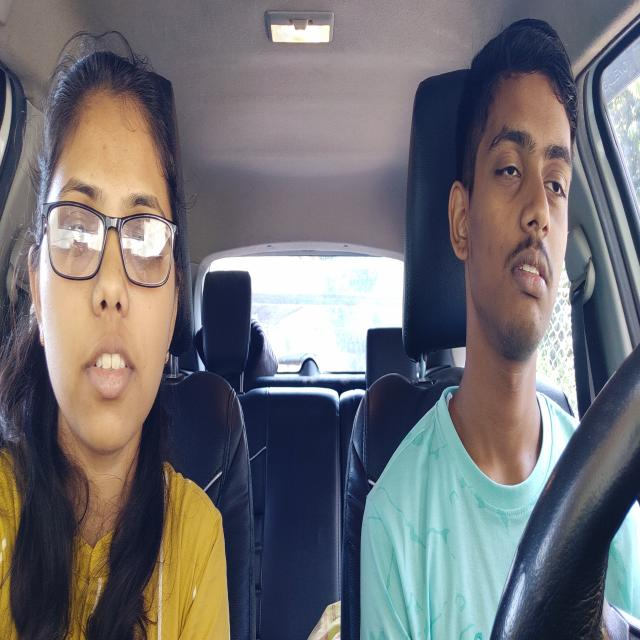drowsy: (440, 17, 582, 377)
person: (24, 43, 188, 463)
